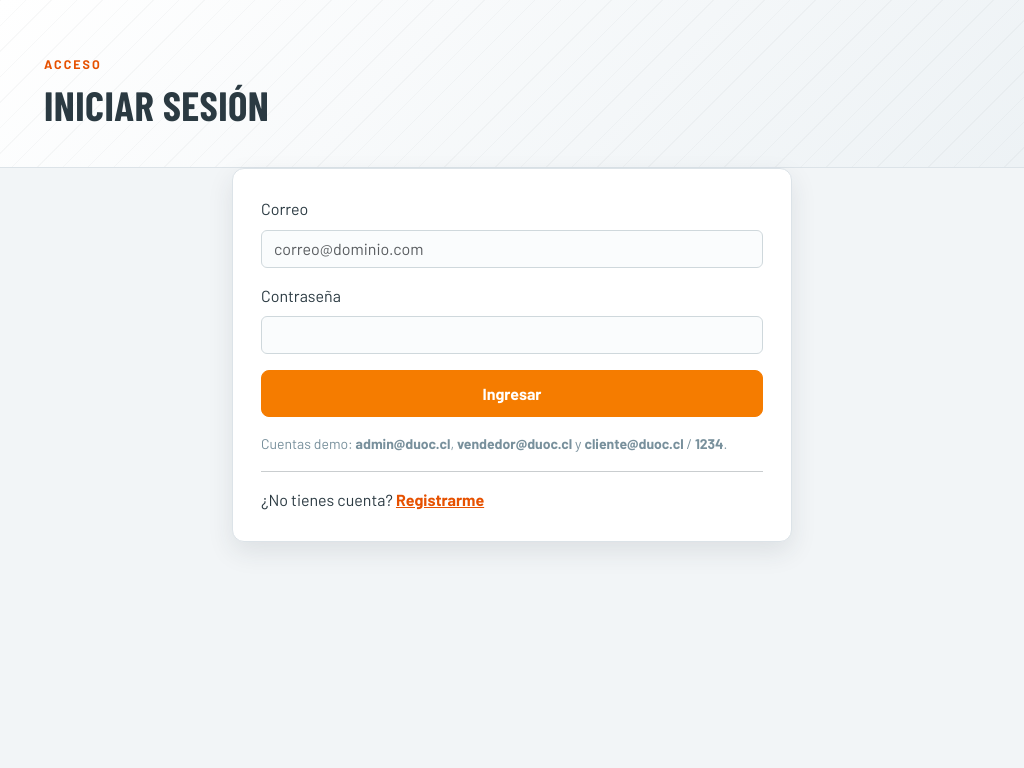
Test: Inicio de sesión › muestra el error de la API cuando las credenciales no coinciden
This screenshot has width=1024, height=768.
Type "maria@duoc.cl" into the field labelled "Correo" at (512, 248), box 261,230 -> 763,268
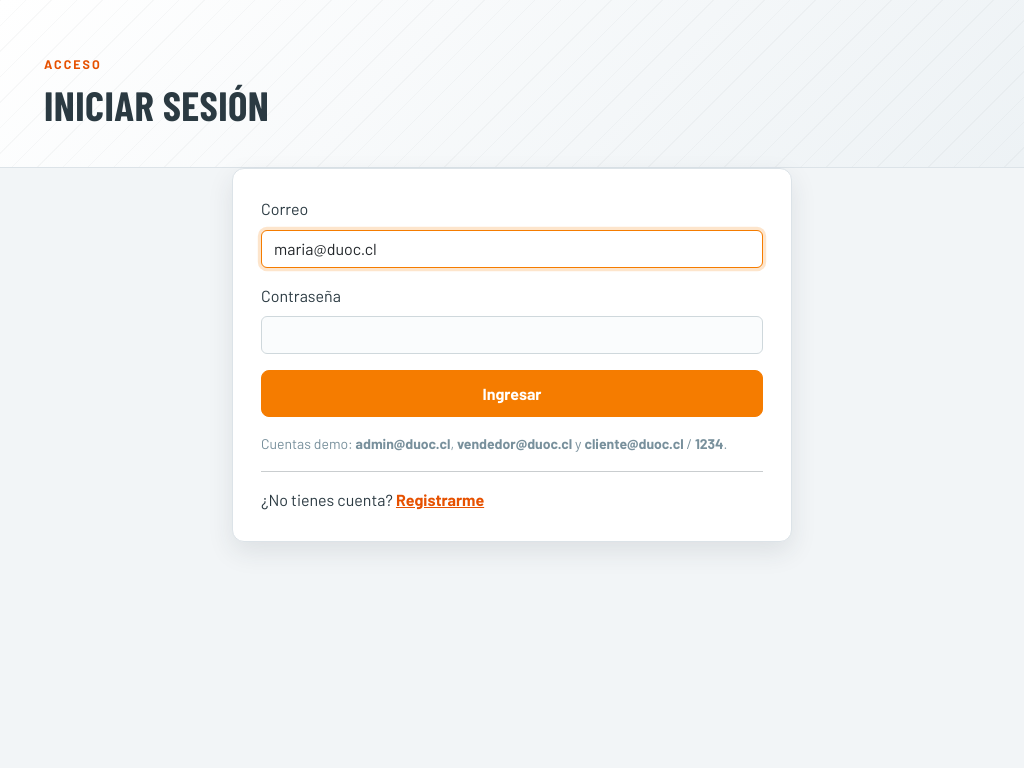
Type "9999" into the password field labelled "Contraseña" at (512, 335), box 261,316 -> 763,354
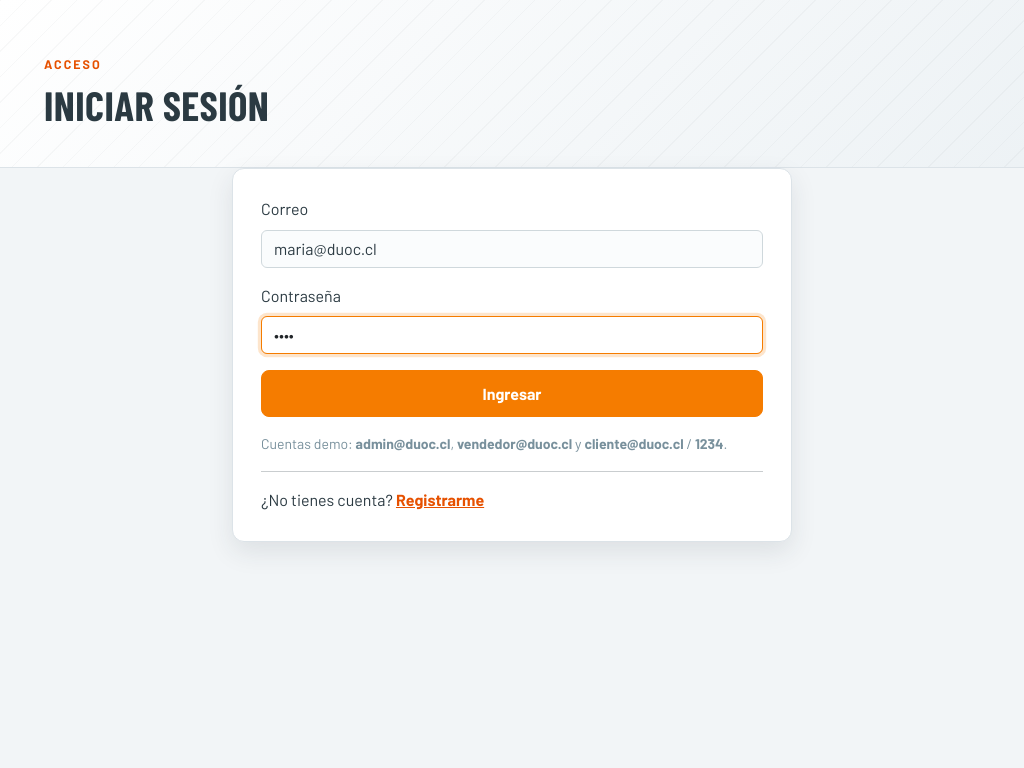
Click the button "Ingresar" at (512, 394), box 261,370 -> 763,417
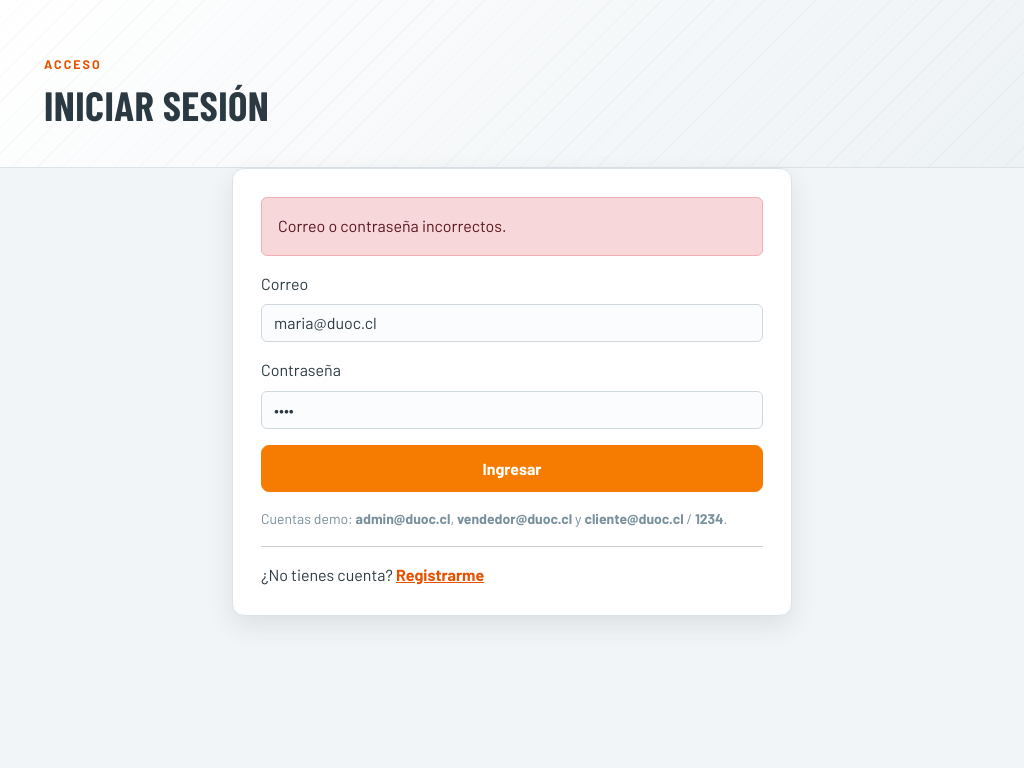
expect the text "Correo o contraseña incorrectos." is shown: met, box 261,197 -> 763,256
